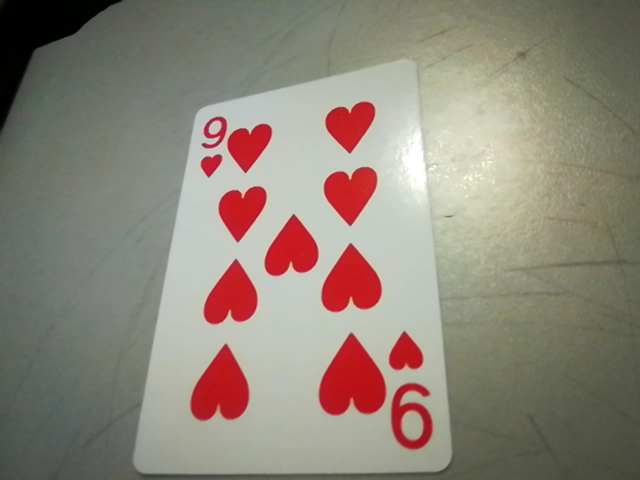hx 9: (384, 329, 442, 458), (184, 112, 229, 179)
